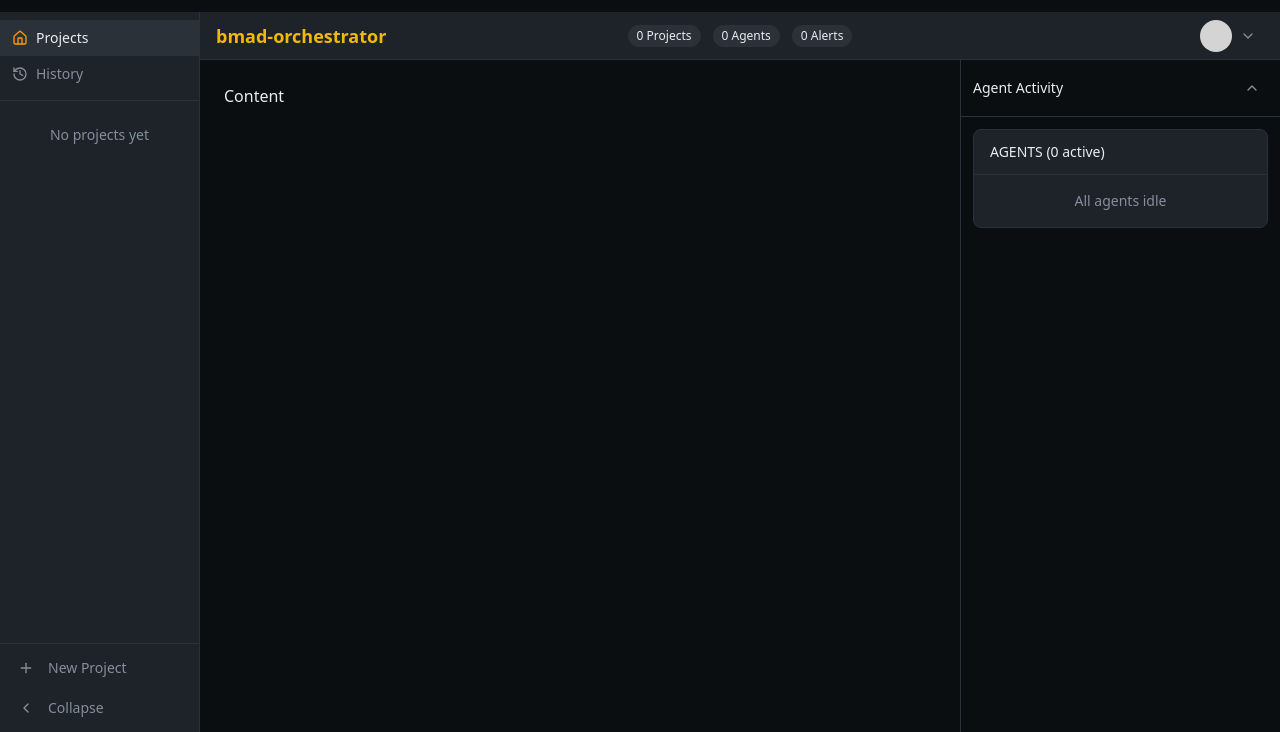
Test: Layout › toggles agent panel visibility when button is clicked
This screenshot has width=1280, height=732.
Expected: the element with test id "agent-panel" is shown, [973,129,1268,228]
Click the button named "hide agent panel" at (1252, 88), box [1236,72,1268,104]
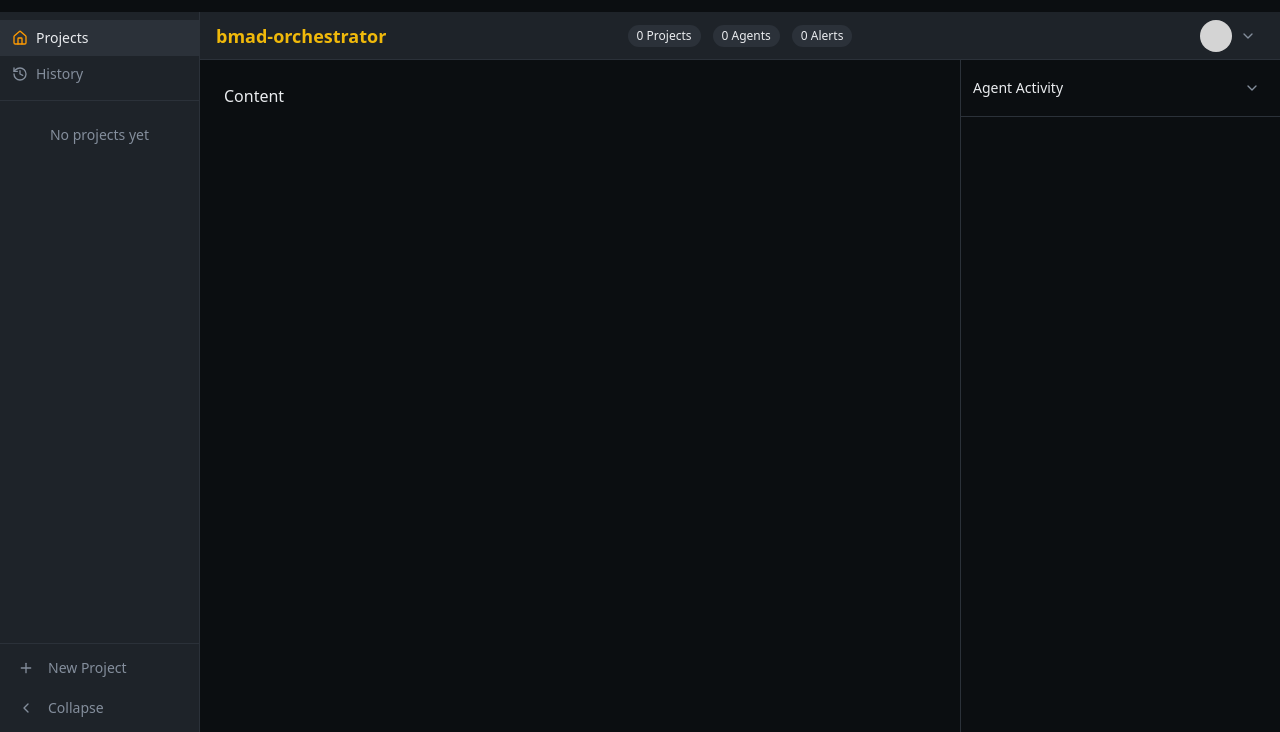
Expected: the element with test id "agent-panel" is gone
